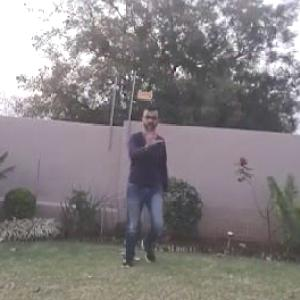follow_hand: (138, 122, 162, 150)
